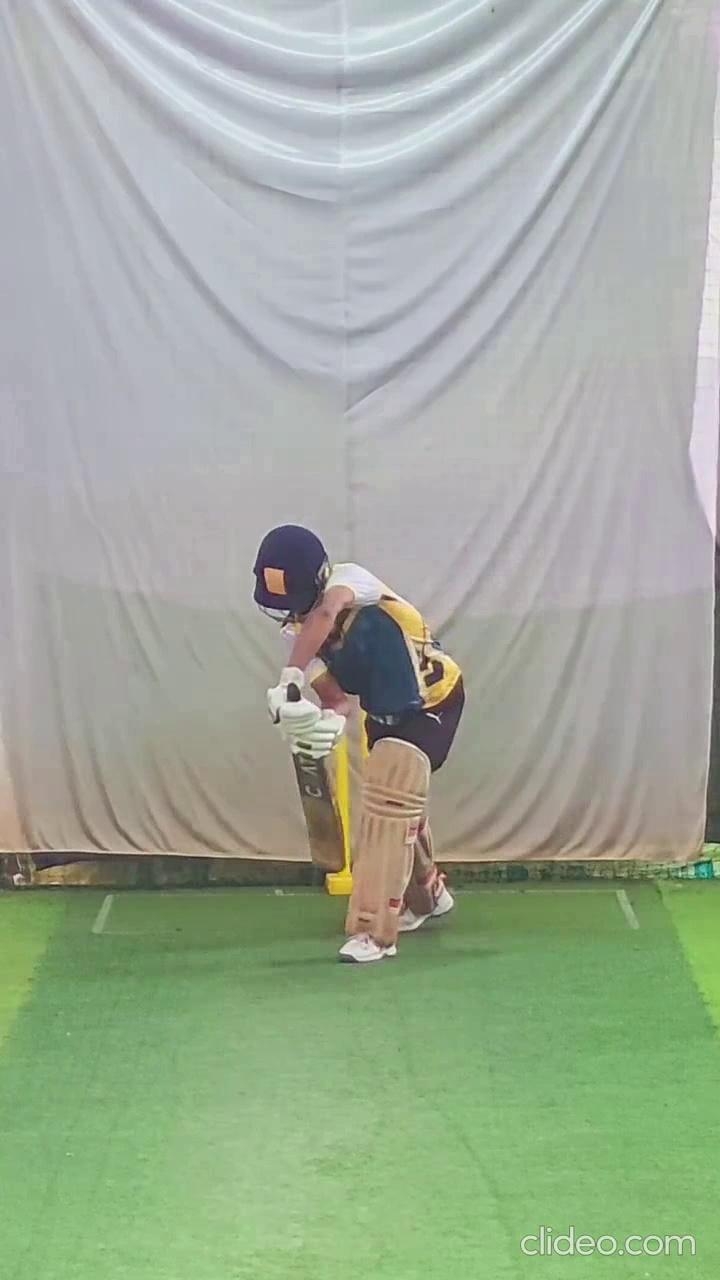bat: (289, 746, 350, 878)
